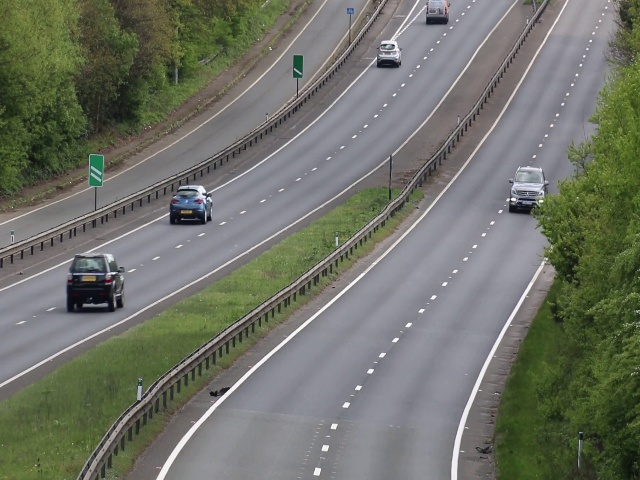car: (65, 253, 126, 311), (167, 182, 215, 227), (508, 163, 547, 217), (376, 39, 404, 66), (423, 1, 450, 26)
